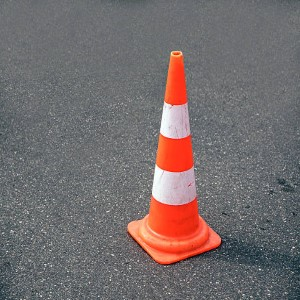traffic cone: (127, 51, 222, 265)
